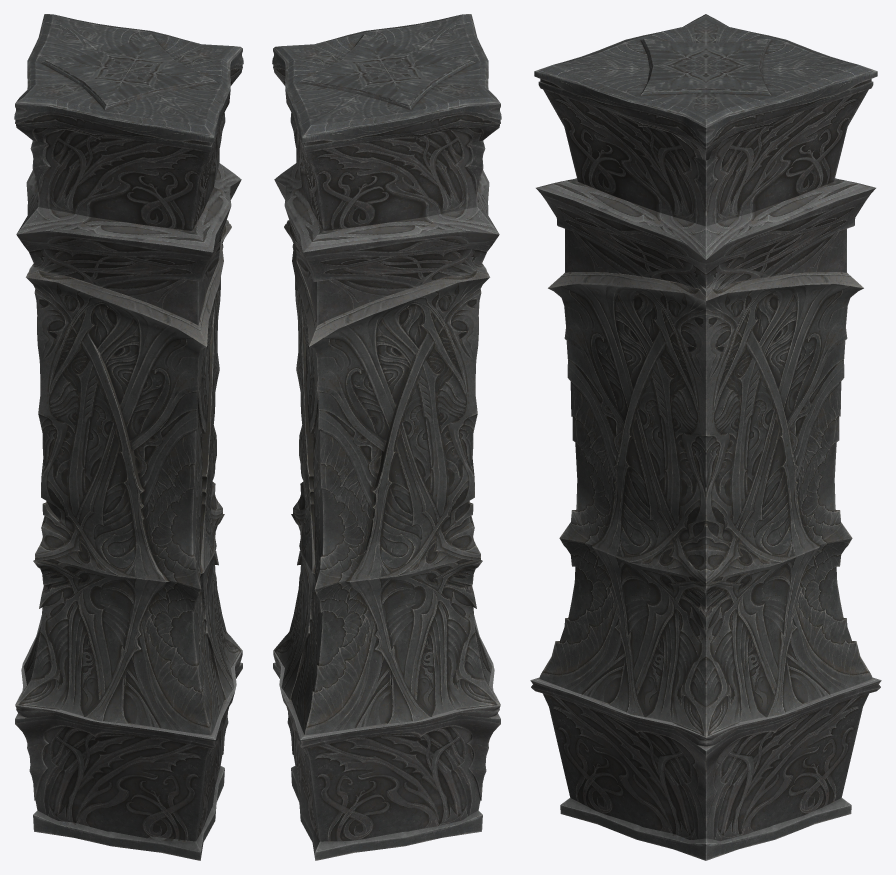
Rendered from bg_rad_kamen_pillar08_sm_alchemy.obj.
3 views of the same model, side by side, from view 1: azimuth 30°, elevation 25°; view 2: azimuth 150°, elevation 25°; view 3: azimuth 270°, elevation 25° (orthographic).
Visible parts, largest first — view 1: bg_rad_kamen_pillar08_sm_alchemy_1, bg_rad_kamen_pillar08_sm_alchemy_0; view 2: bg_rad_kamen_pillar08_sm_alchemy_1, bg_rad_kamen_pillar08_sm_alchemy_0; view 3: bg_rad_kamen_pillar08_sm_alchemy_1, bg_rad_kamen_pillar08_sm_alchemy_0.
Part boxes in pixels (box(x1,y1,x2,y2)): bg_rad_kamen_pillar08_sm_alchemy_1: box(16, 224, 241, 735); bg_rad_kamen_pillar08_sm_alchemy_0: box(14, 14, 243, 860); bg_rad_kamen_pillar08_sm_alchemy_1: box(274, 224, 499, 735); bg_rad_kamen_pillar08_sm_alchemy_0: box(272, 14, 501, 860); bg_rad_kamen_pillar08_sm_alchemy_1: box(539, 272, 872, 736); bg_rad_kamen_pillar08_sm_alchemy_0: box(530, 14, 881, 860).
Size of the model in its own units: 5.15 by 15.82 by 6.73.
Materials: 2 (2 with a texture image).
